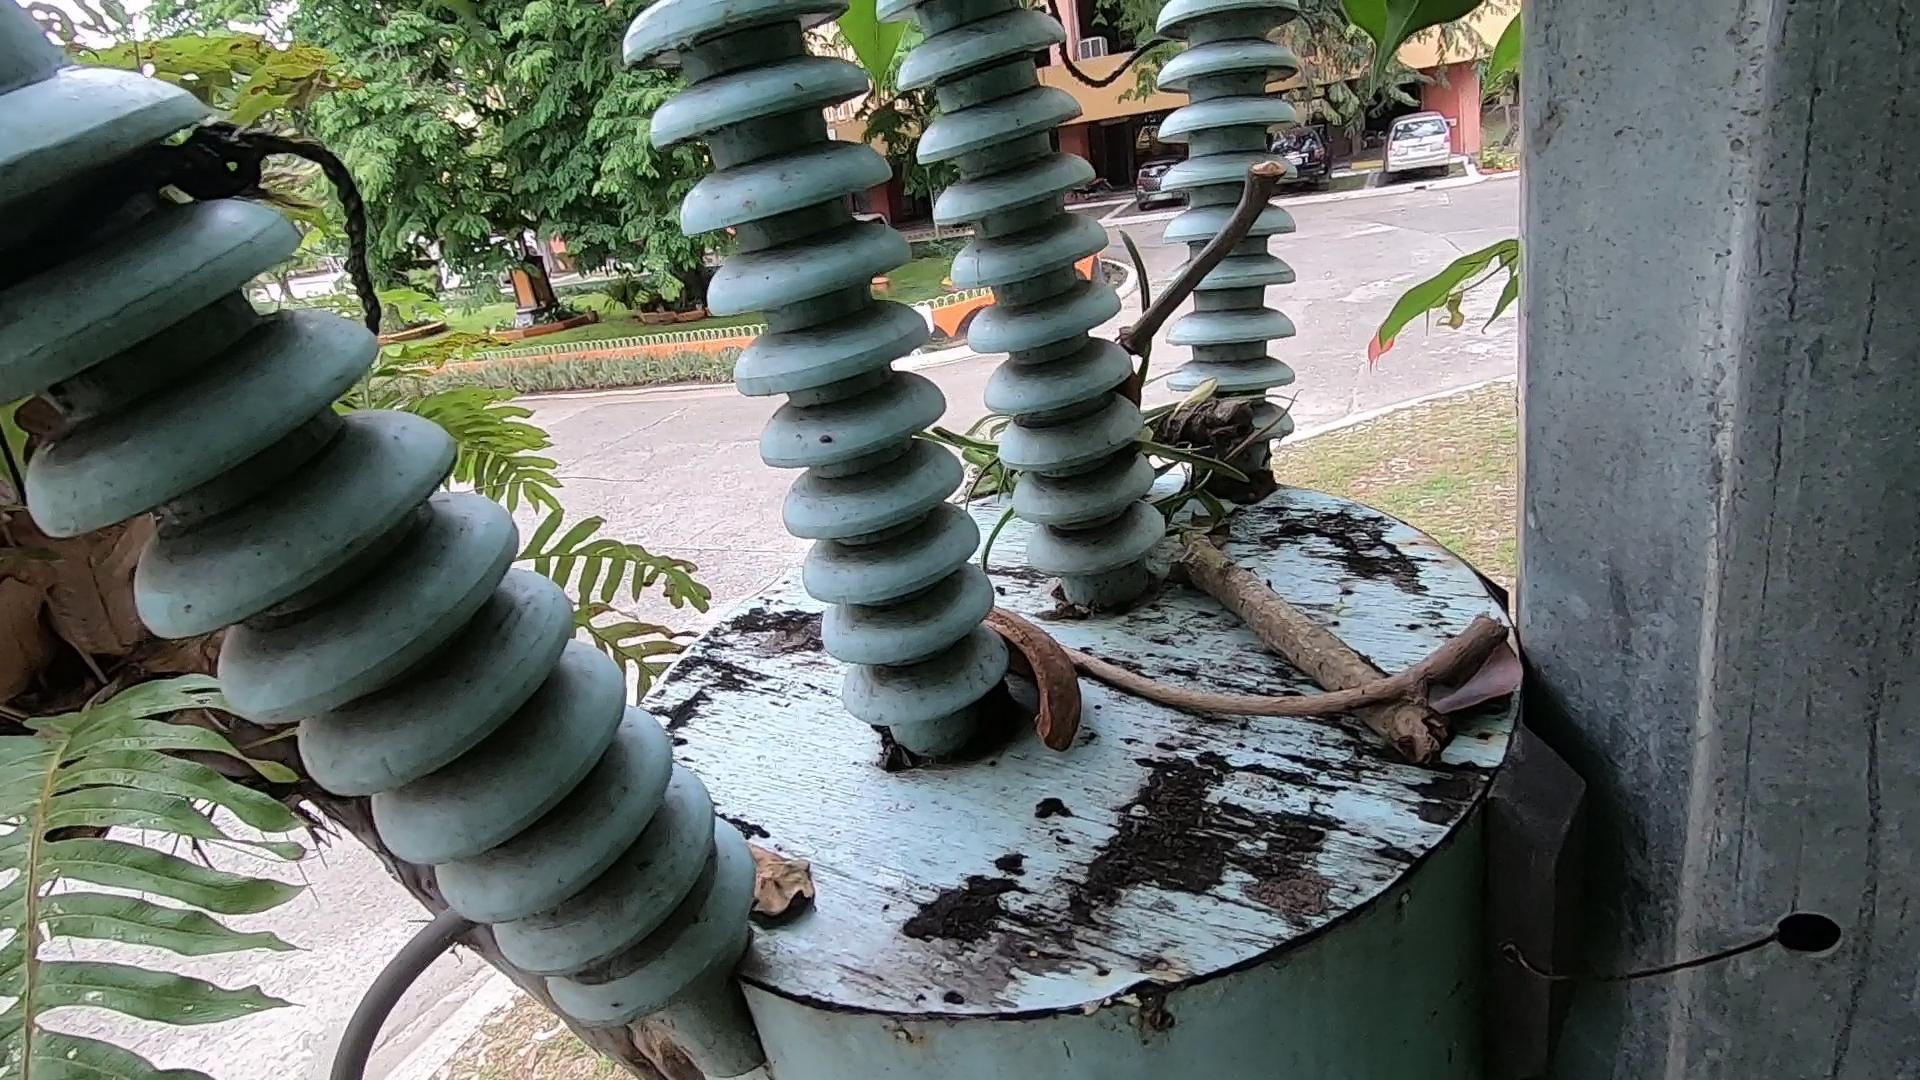branch with leaves: (1014, 323, 1582, 855)
leaf: (678, 781, 967, 992), (1410, 588, 1564, 785)
mahogany fruit: (951, 567, 1089, 782)
tree branch: (1089, 99, 1331, 388), (1022, 638, 1524, 764)
